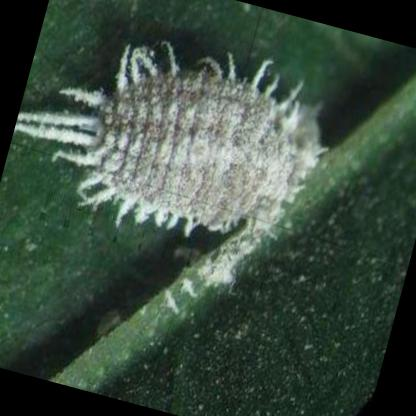mealy bug: (17, 43, 322, 227)
